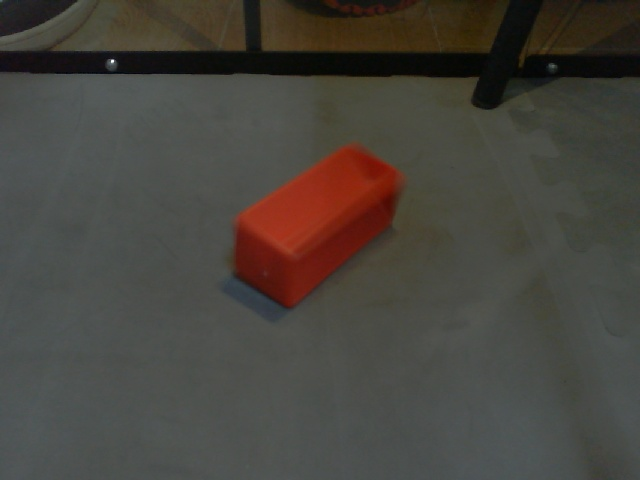RedSample: (223, 138, 408, 319)
